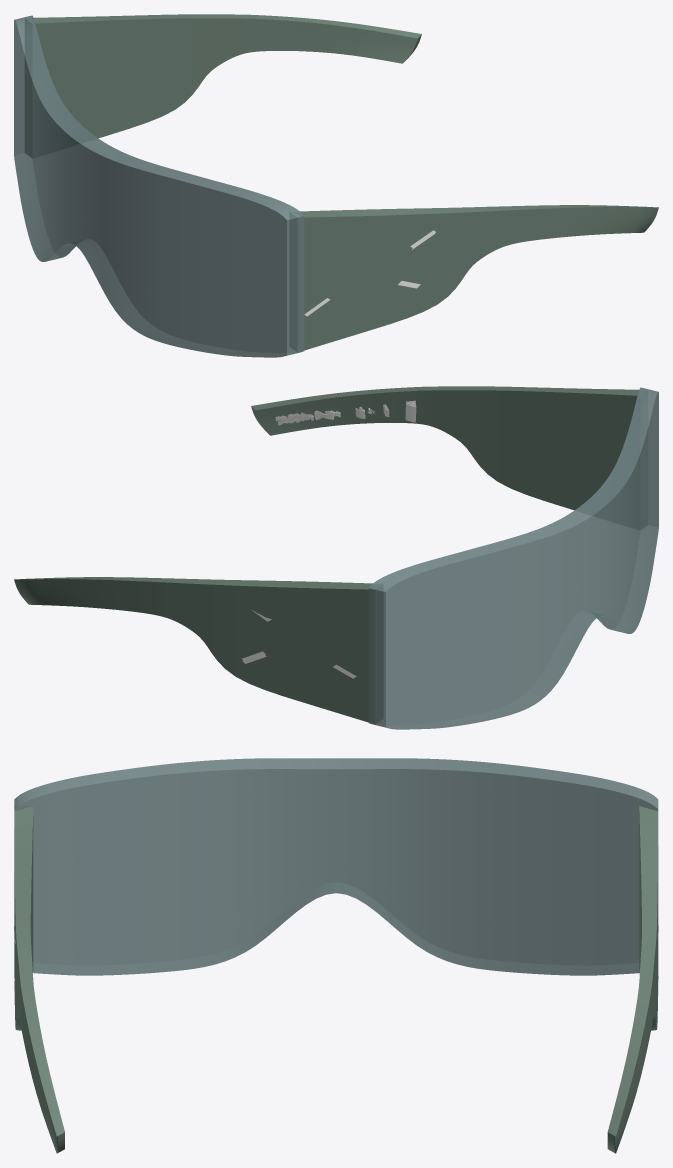
File: sunglasses.glb
3 renders of one model, top to bottom at view 1: azimuth 30°, elevation 25°; view 2: azimuth 150°, elevation 25°; view 3: azimuth 270°, elevation 25°, orthographic. The views are drawn at different scales.
Parts seen in each view (by area): view 1: matkinh, taytrai, tayphai; view 2: matkinh, tayphai, taytrai; view 3: matkinh, tayphai, taytrai.
Part boxes in pixels (bbox=[...]): matkinh: bbox=[14, 15, 304, 357]; taytrai: bbox=[289, 205, 658, 352]; tayphai: bbox=[25, 14, 421, 158]; matkinh: bbox=[368, 387, 658, 729]; tayphai: bbox=[14, 577, 383, 724]; taytrai: bbox=[251, 386, 647, 530]; matkinh: bbox=[14, 758, 658, 975]; tayphai: bbox=[607, 806, 658, 1153]; taytrai: bbox=[14, 806, 64, 1153].
Size of the model in its own units: 3.93 by 1.38 by 4.
Materials: 14 (2 with a texture image).
